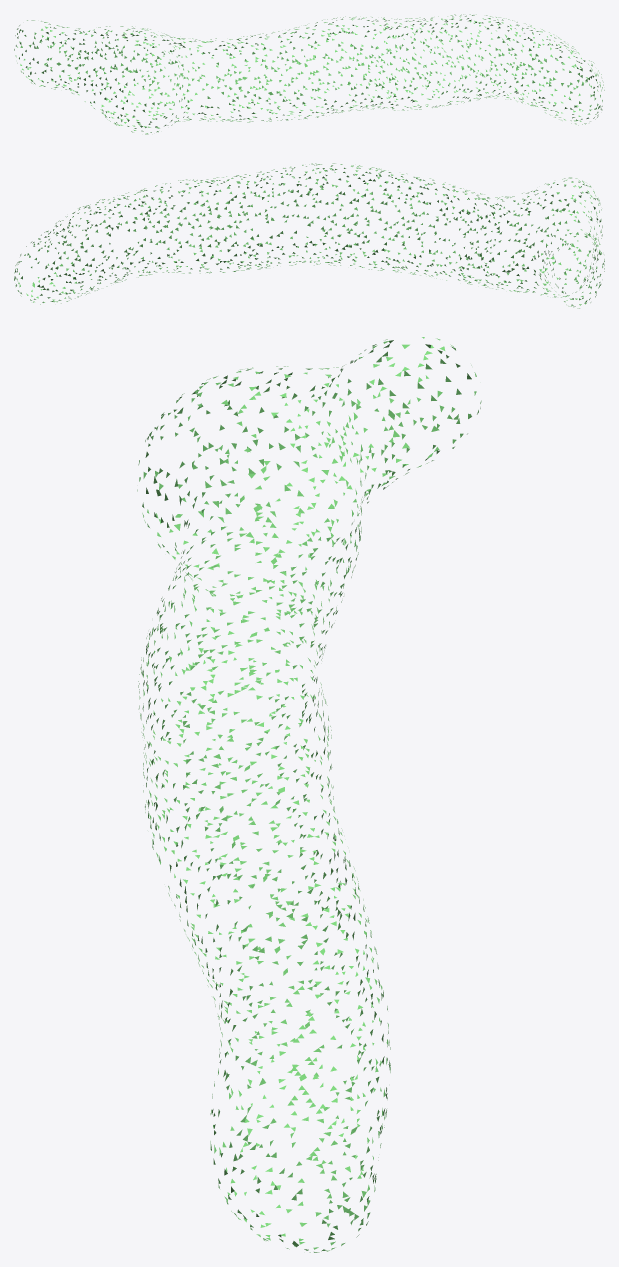
File: morph_017.glb
3 renders of one model, top to bottom at view 1: azimuth 30°, elevation 25°; view 2: azimuth 150°, elevation 25°; view 3: azimuth 270°, elevation 25°, orthographic. The views are drawn at different scales.
Bounding box in the file's own units: 130 × 47.62 × 35.11.
